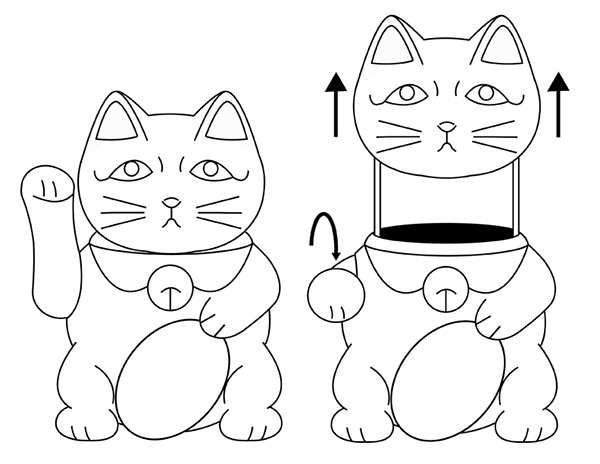cat: (307, 3, 582, 464), (13, 93, 307, 457)
